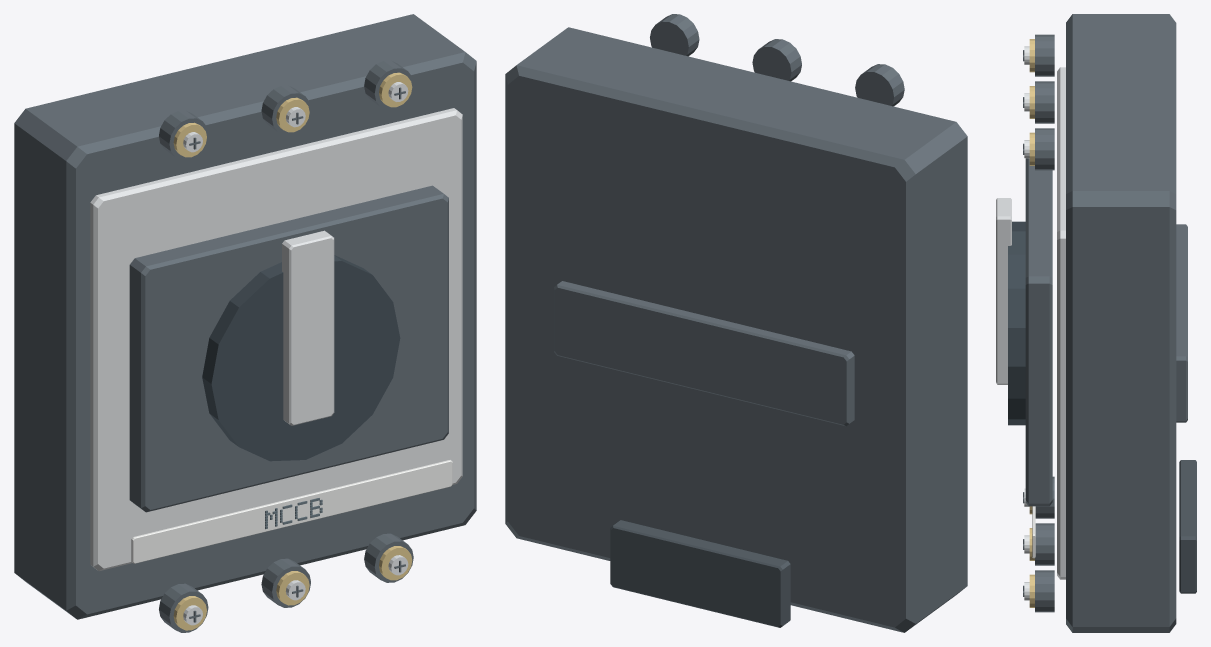
Rendered from mccb3P.glb.
3 views of the same model, side by side, from view 1: azimuth 30°, elevation 25°; view 2: azimuth 150°, elevation 25°; view 3: azimuth 270°, elevation 25° (orthographic). The views are drawn at different scales.
Visible parts, largest first — view 1: mccb3P-preview; view 2: mccb3P-preview; view 3: mccb3P-preview.
Boxes of the visible parts, x1,y1,x2,y2 form: mccb3P-preview: (14, 14, 476, 632); mccb3P-preview: (505, 14, 967, 632); mccb3P-preview: (996, 14, 1196, 632).
Bounding box in the file's own units: 3.29 × 3.94 × 1.49.
